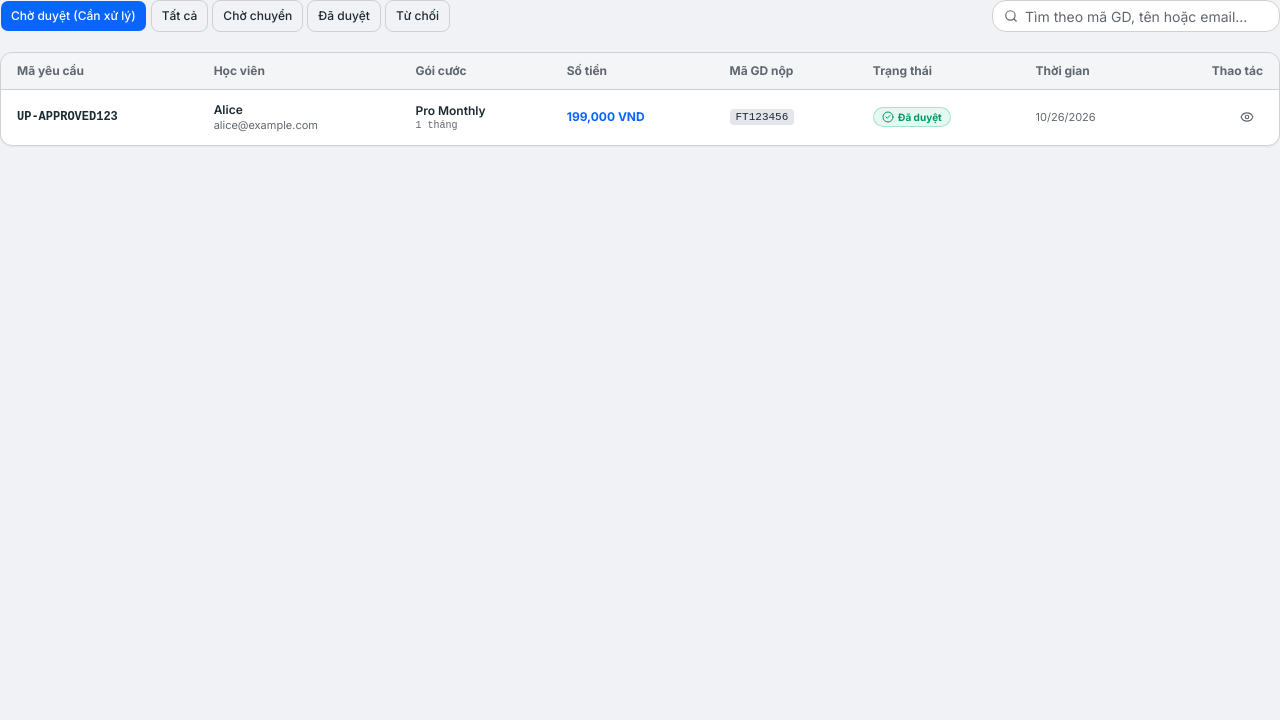
Admin Billing & Upgrade Reconciliation Suite (Subtask 6.1) › renders detail modal safely when reviewedBy is an object
Expected: the text "UP-APPROVED123" is shown, [1,90,198,145]
Note: Click view detail (Eye icon button)
What coordinates should you click on to do the following:
click the button titled "Xem chi tiết"
I would click on:
 (1247, 117)
Its box is [1231,103,1263,131].
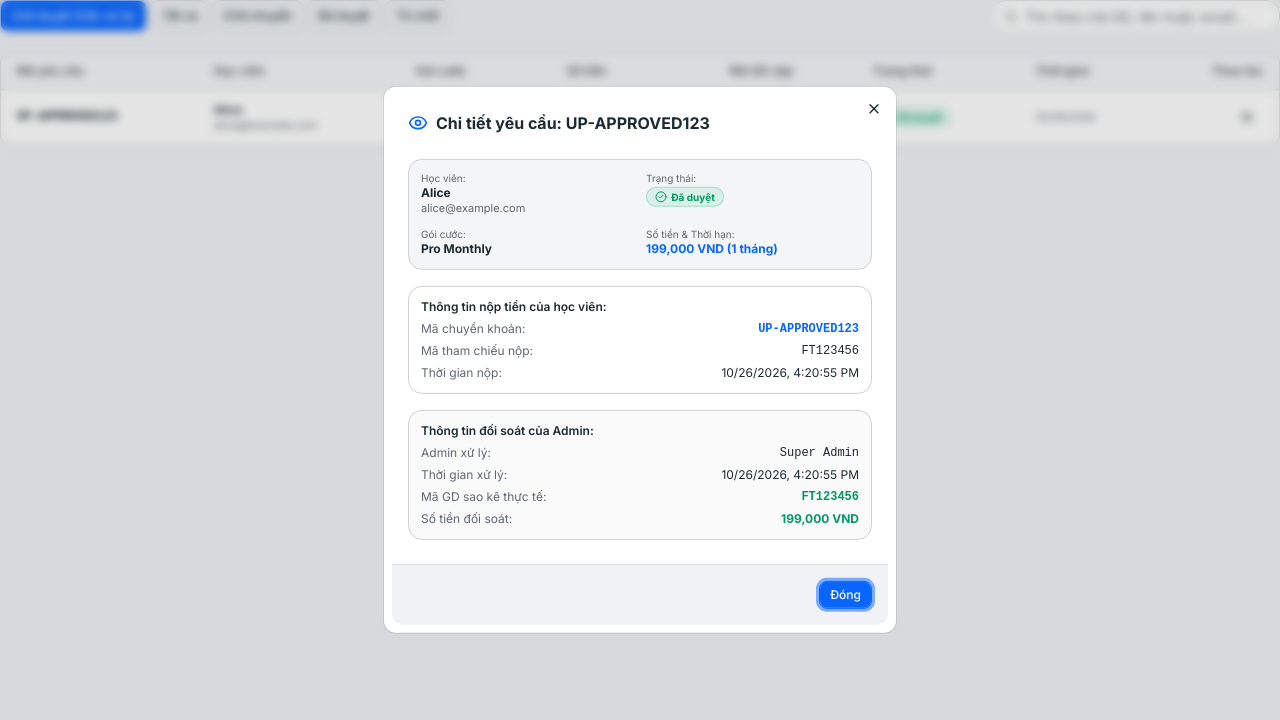
Result: the text "Chi tiết yêu cầu: UP-APPROVED123" is shown at [436,111,710,135]
Result: the text "Super Admin" is shown at [780,445,859,461]
